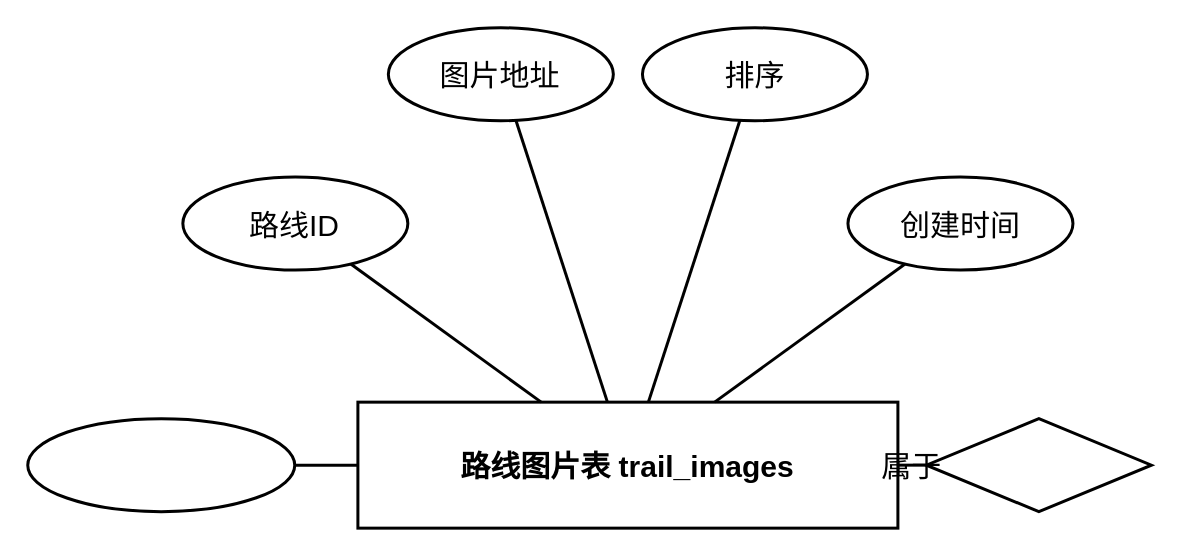
This 1179x555 diagram has some shape labels left out. The shapes that lost their labels are listed below. From the top down, each one's centre as x and y in pixels, then its label:
(161,464): 路线图片ID
(1038,464): 1:n
